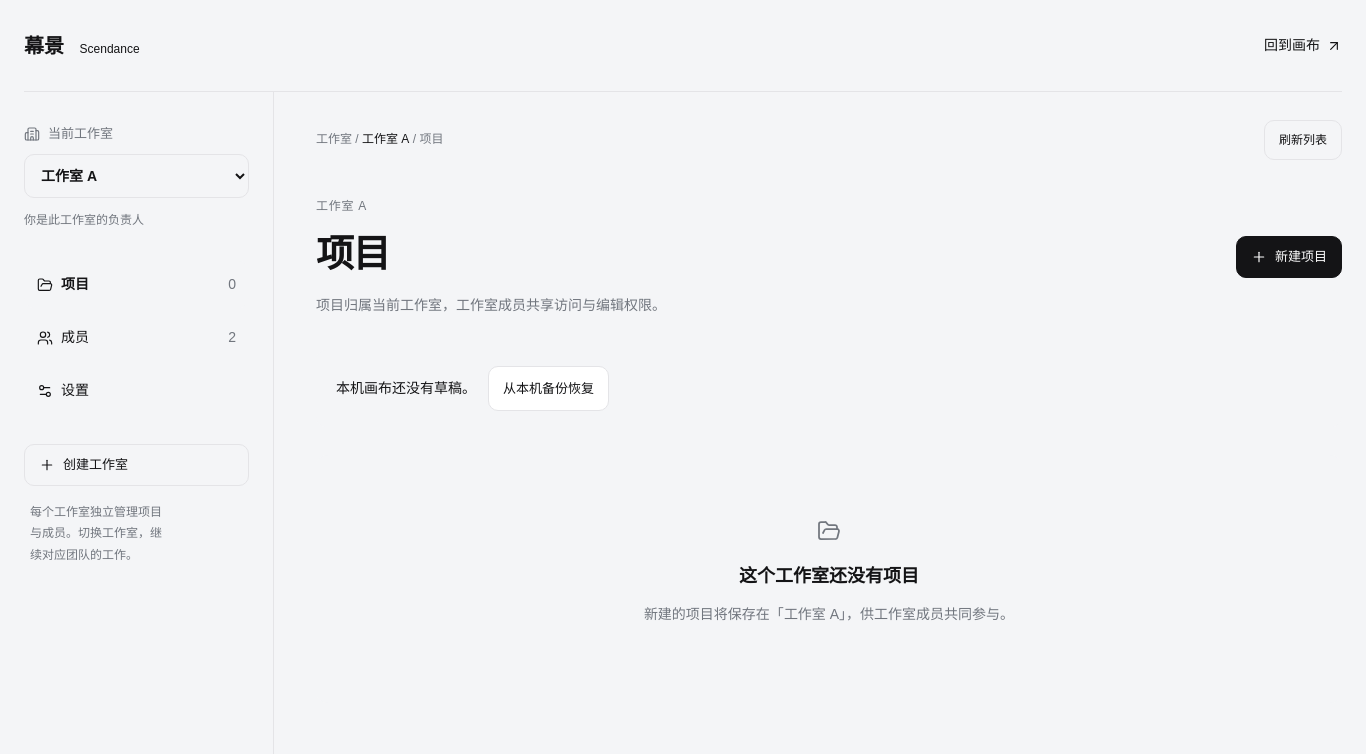
Scenario: workspace management › renames a studio while preserving its selection and project IDs
Check: the heading "这个工作室还没有项目" is shown, box [739, 566, 919, 586]
Click the button "设置" at [136, 391], box [24, 367, 249, 414]
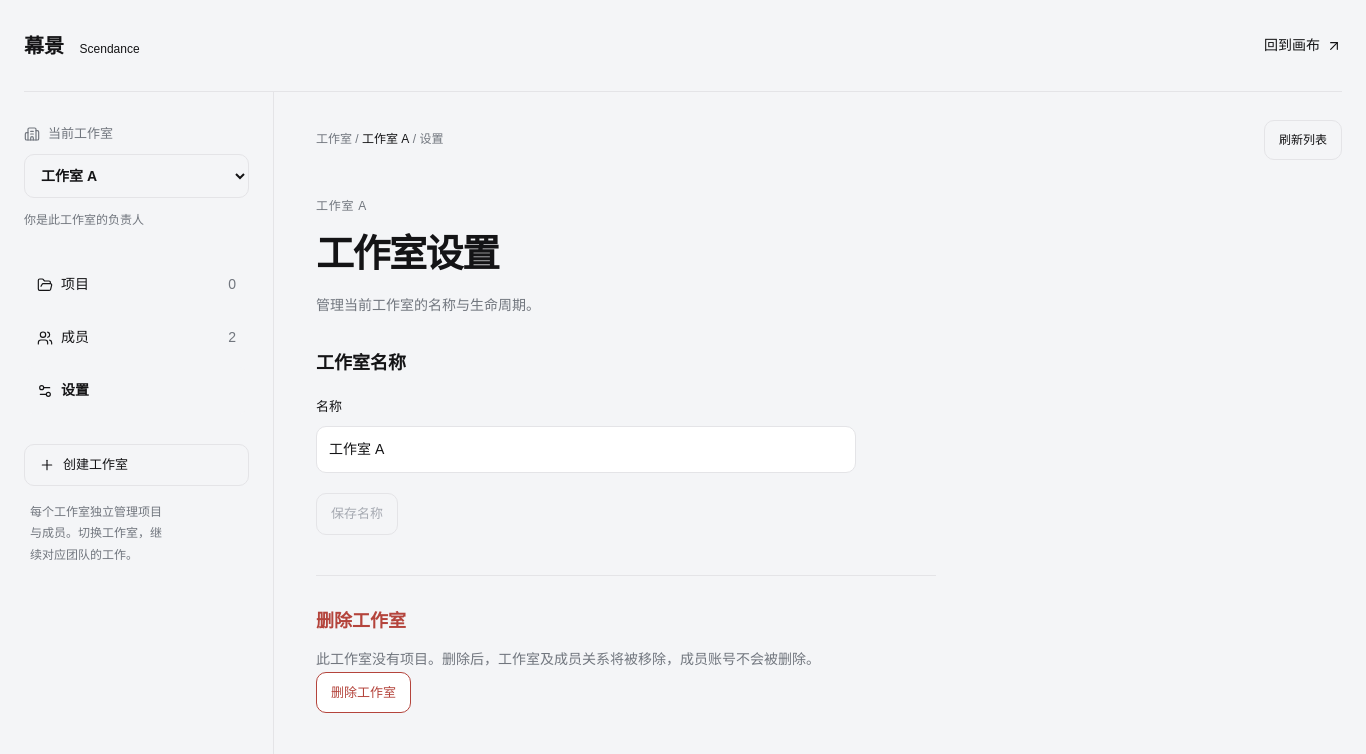
Replace the text in the field labelled "名称" with " 拾光工作室 " at [586, 450], box [316, 426, 856, 473]
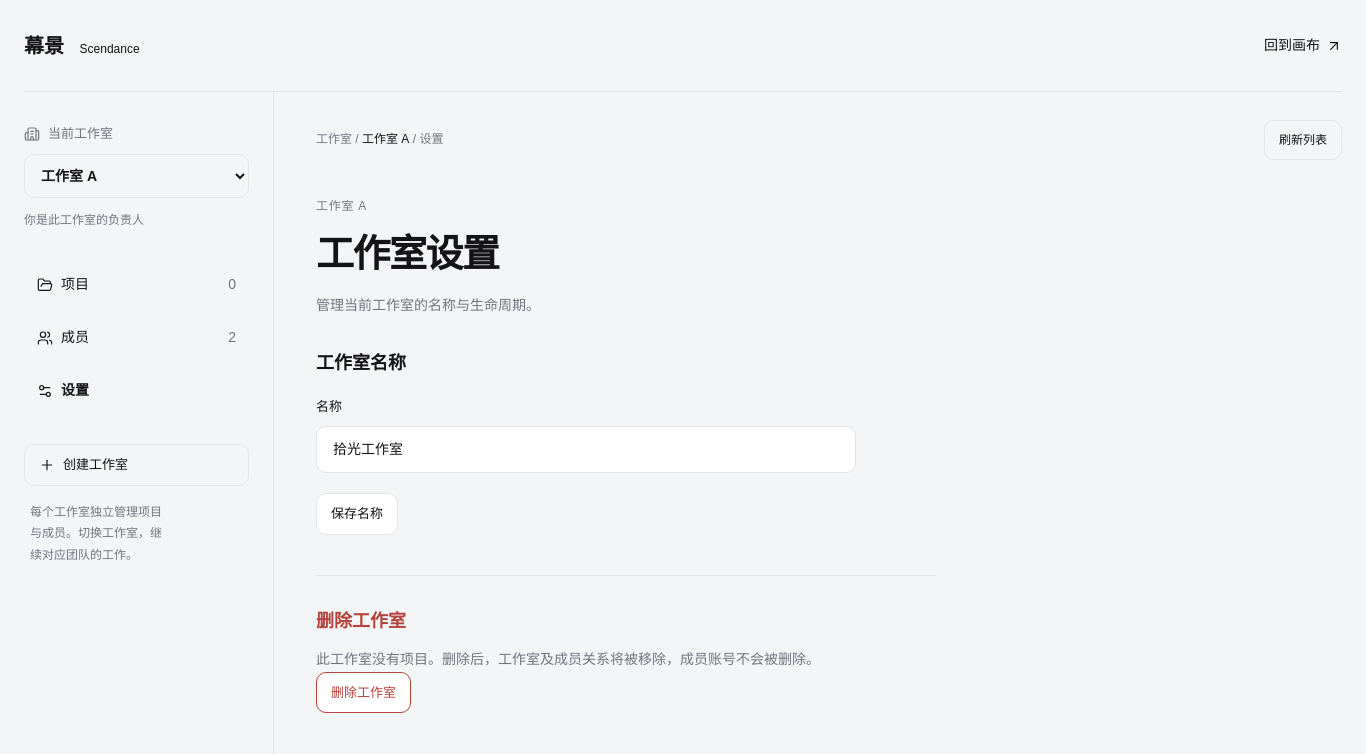
Click the button "保存名称" at [357, 514], box [316, 493, 398, 535]
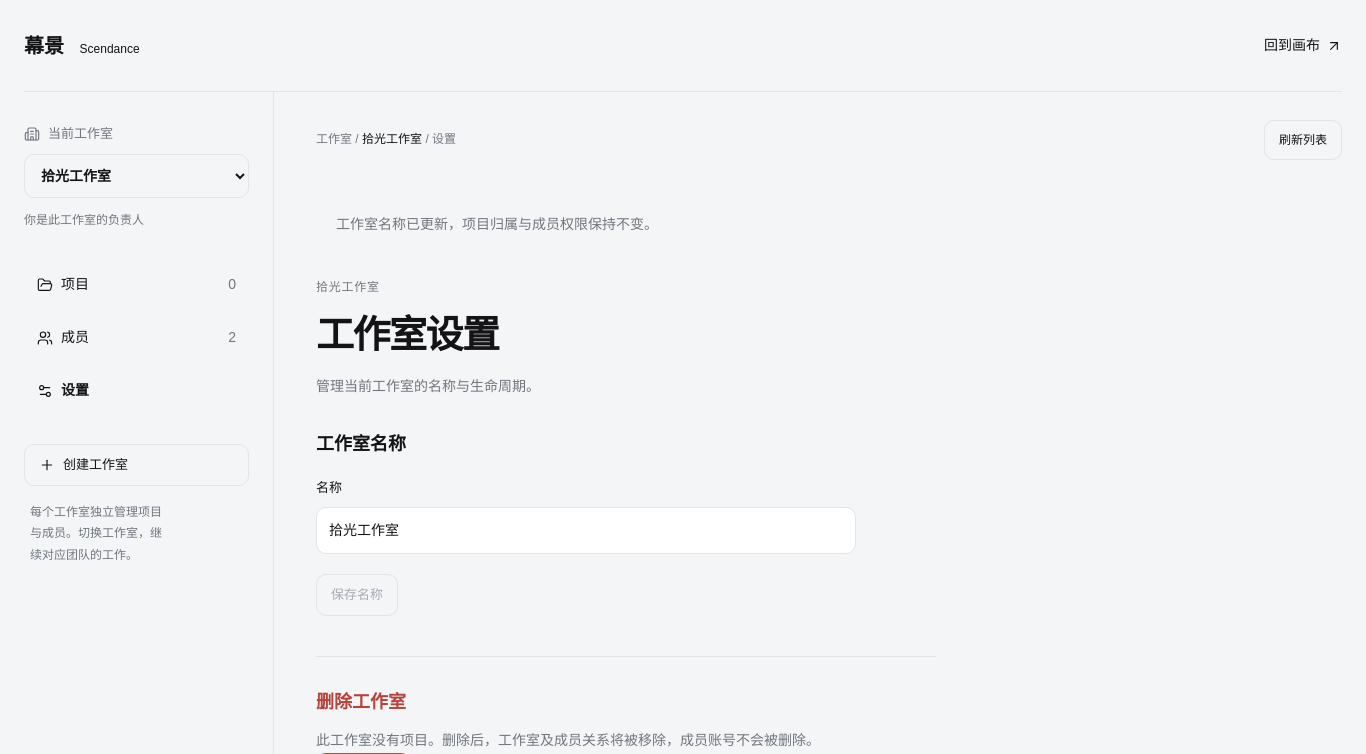
Check: the dropdown labelled "工作室" shows "拾光工作室", box [24, 154, 249, 198]
